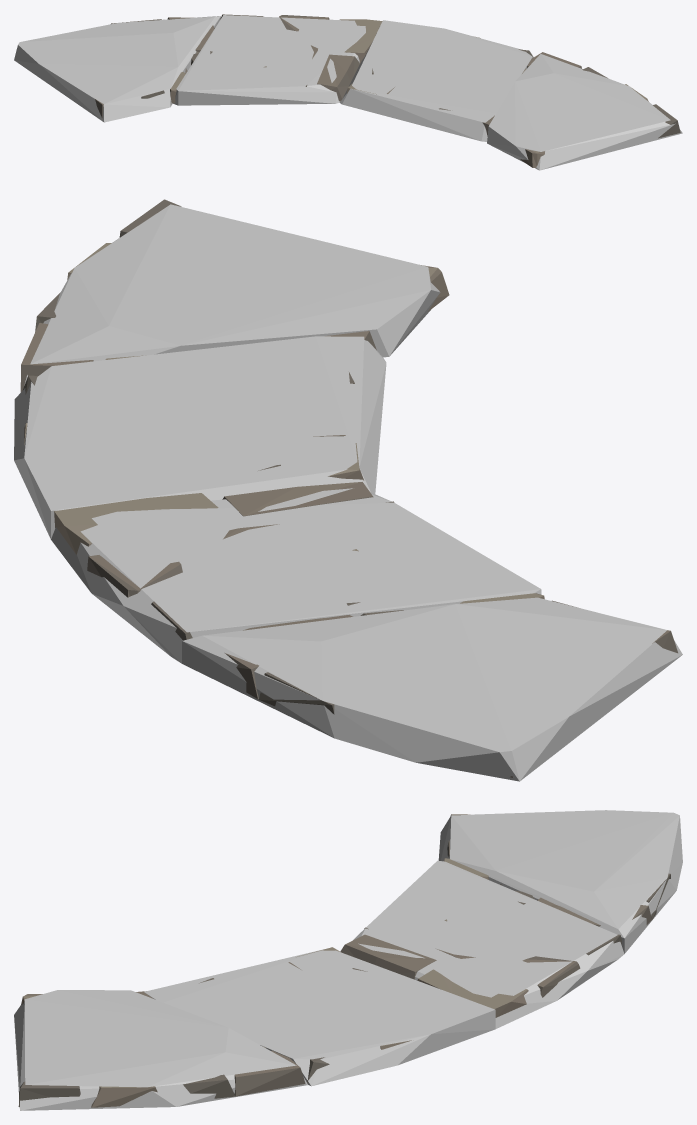
The model's file is SM_Env_Footpath_Corner_Large_01.fbx.
The picture shows the model from 3 angles, top to bottom: view 1: azimuth 30°, elevation 25°; view 2: azimuth 150°, elevation 25°; view 3: azimuth 270°, elevation 25°; orthographic projection. The views are drawn at different scales.
Parts seen in each view (by area): view 1: SM_Env_Footpath_Corner_Large_01_ConvexHulls, SM_Env_Footpath_Corner_Large_01; view 2: SM_Env_Footpath_Corner_Large_01_ConvexHulls, SM_Env_Footpath_Corner_Large_01; view 3: SM_Env_Footpath_Corner_Large_01_ConvexHulls, SM_Env_Footpath_Corner_Large_01.
Part boxes in pixels (x1,y1,x2,y2): SM_Env_Footpath_Corner_Large_01_ConvexHulls: (14,15,682,170); SM_Env_Footpath_Corner_Large_01: (94,14,680,167); SM_Env_Footpath_Corner_Large_01_ConvexHulls: (14,204,682,781); SM_Env_Footpath_Corner_Large_01: (20,199,677,777); SM_Env_Footpath_Corner_Large_01_ConvexHulls: (14,810,682,1110); SM_Env_Footpath_Corner_Large_01: (18,814,670,1107).
Bounding box in the file's own units: 766 × 770 × 30.02.
2 materials, 1 textured.
